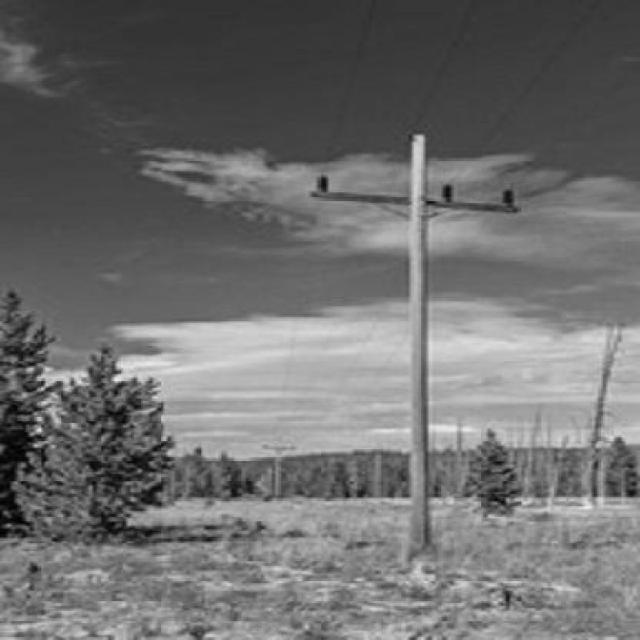Pole: (408, 134, 432, 558)
